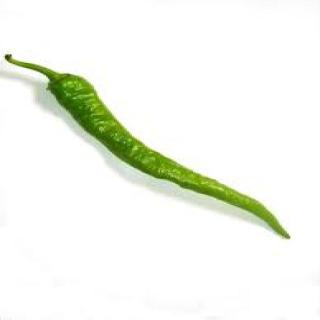Cabai Hijau: (4, 55, 291, 239)
